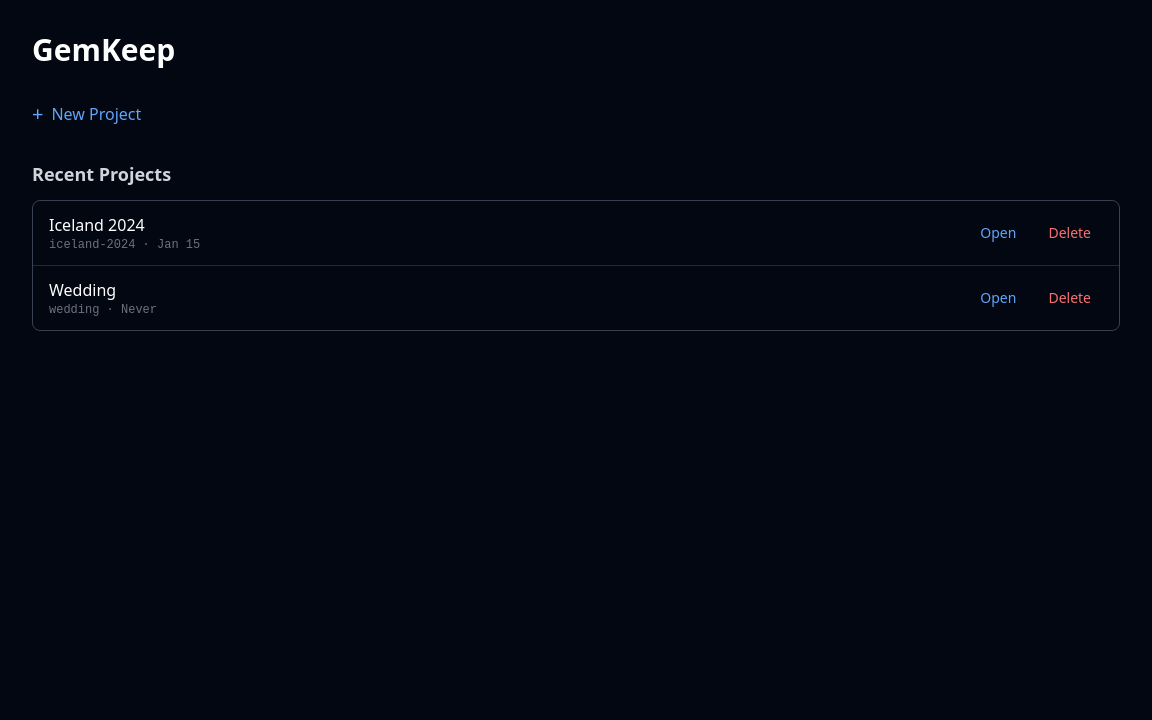
Scenario: ProjectList — Duplicate project name prevention (FIX-1.5.1) › shows an error instead of creating when name already exists (case-insensitive)
Expected: the heading "GemKeep" is shown, left=32, top=29, right=175, bottom=70
Click the button "+ New Project": (87, 114) left=32, top=100, right=141, bottom=128
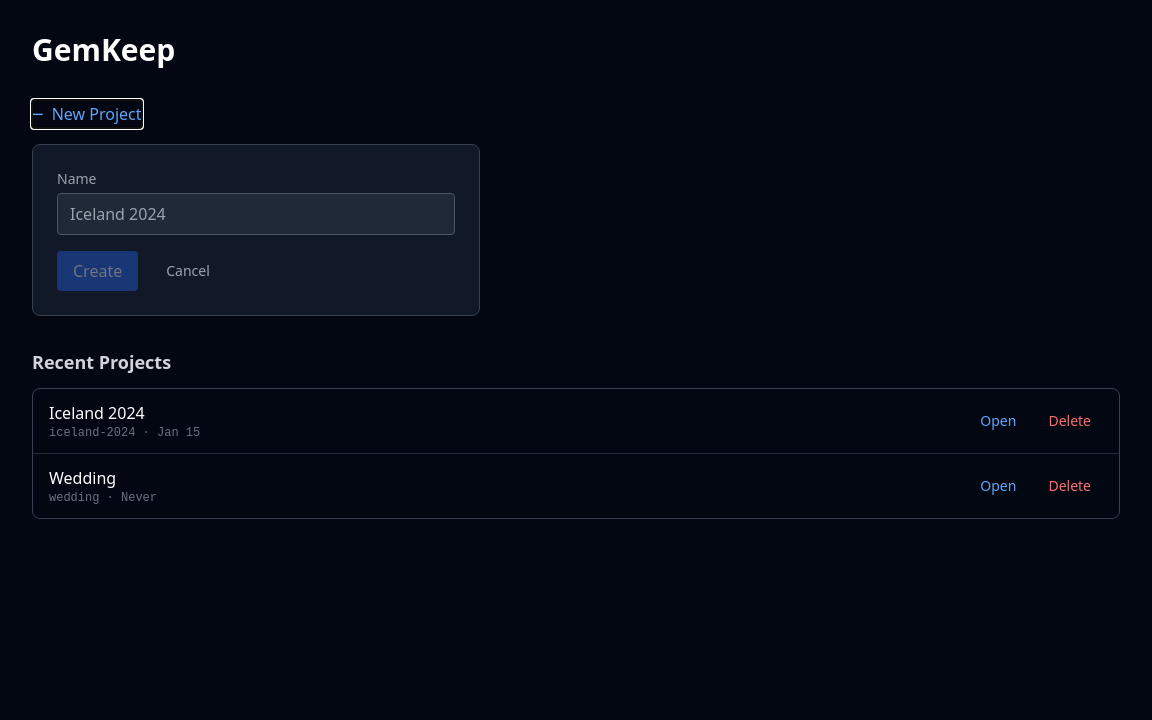
// Type the same name as an existing project (different case)
In the field with placeholder "Iceland 2024": (256, 214) left=57, top=193, right=455, bottom=235, type "iceland 2024"
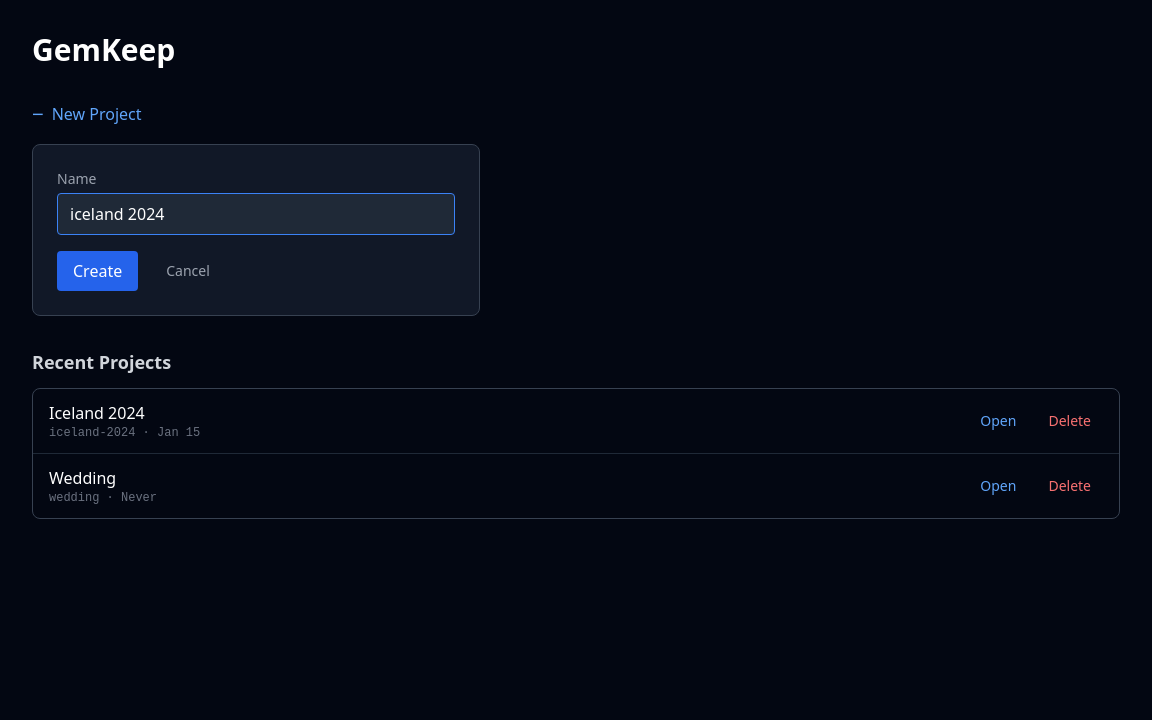
Click the button "Create": (98, 271) left=57, top=251, right=138, bottom=291
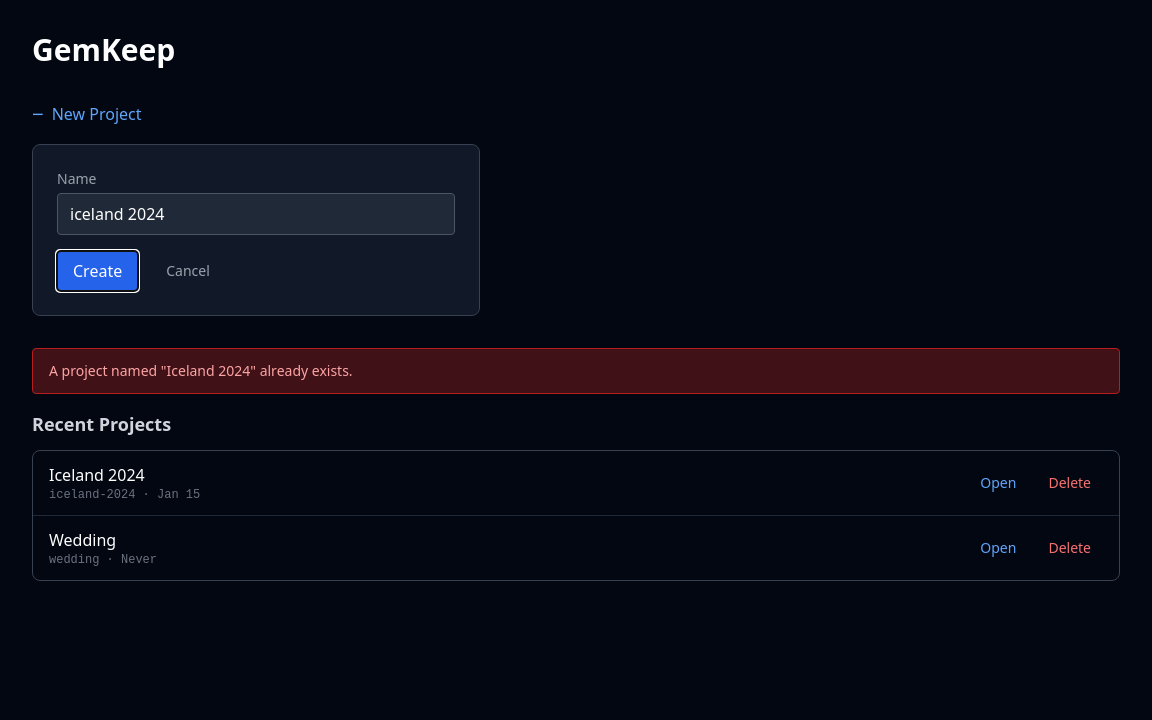
Expected: the text "A project named \"Iceland 2024\" already exists." is shown, left=32, top=348, right=1120, bottom=394
